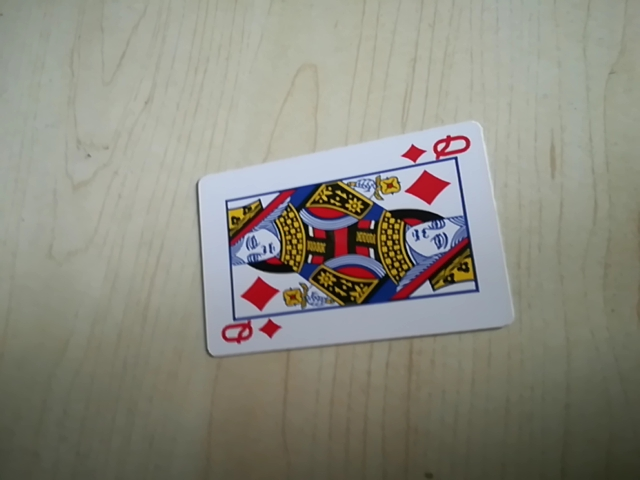fk q: (401, 129, 476, 166), (216, 318, 285, 353)
